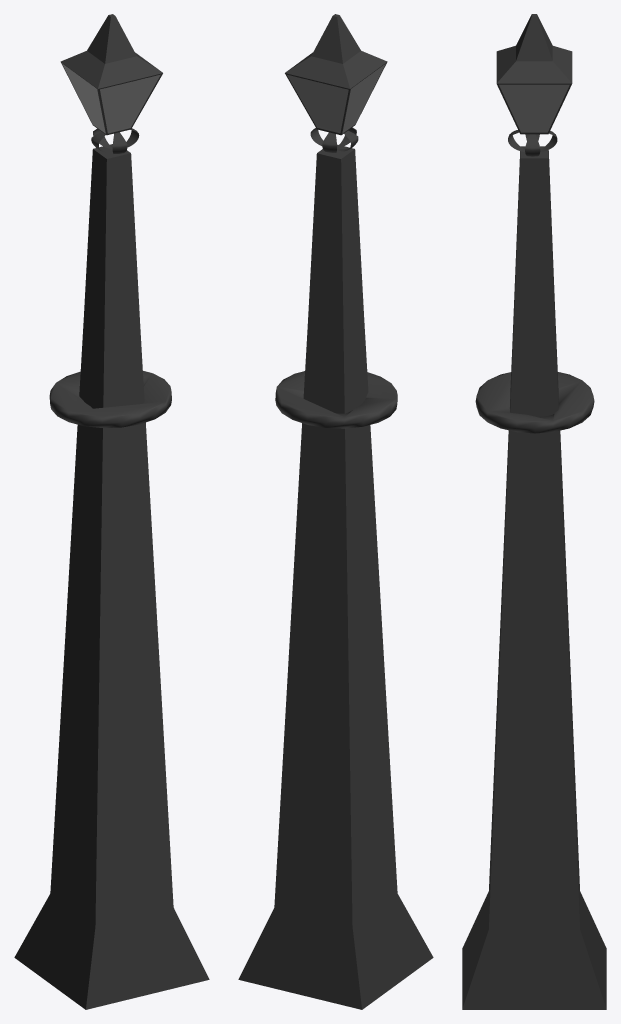
The model's file is lamp.fbx.
3 views of the same model, side by side, from view 1: azimuth 30°, elevation 25°; view 2: azimuth 150°, elevation 25°; view 3: azimuth 270°, elevation 25° (orthographic).
Visible parts, largest first — view 1: pCube4; view 2: pCube4; view 3: pCube4.
Boxes of the visible parts, x1,y1,x2,y2 form: pCube4: [14, 14, 209, 1009]; pCube4: [238, 14, 433, 1009]; pCube4: [462, 14, 606, 1009].
Size of the model in its own units: 1 by 7.36 by 1.
